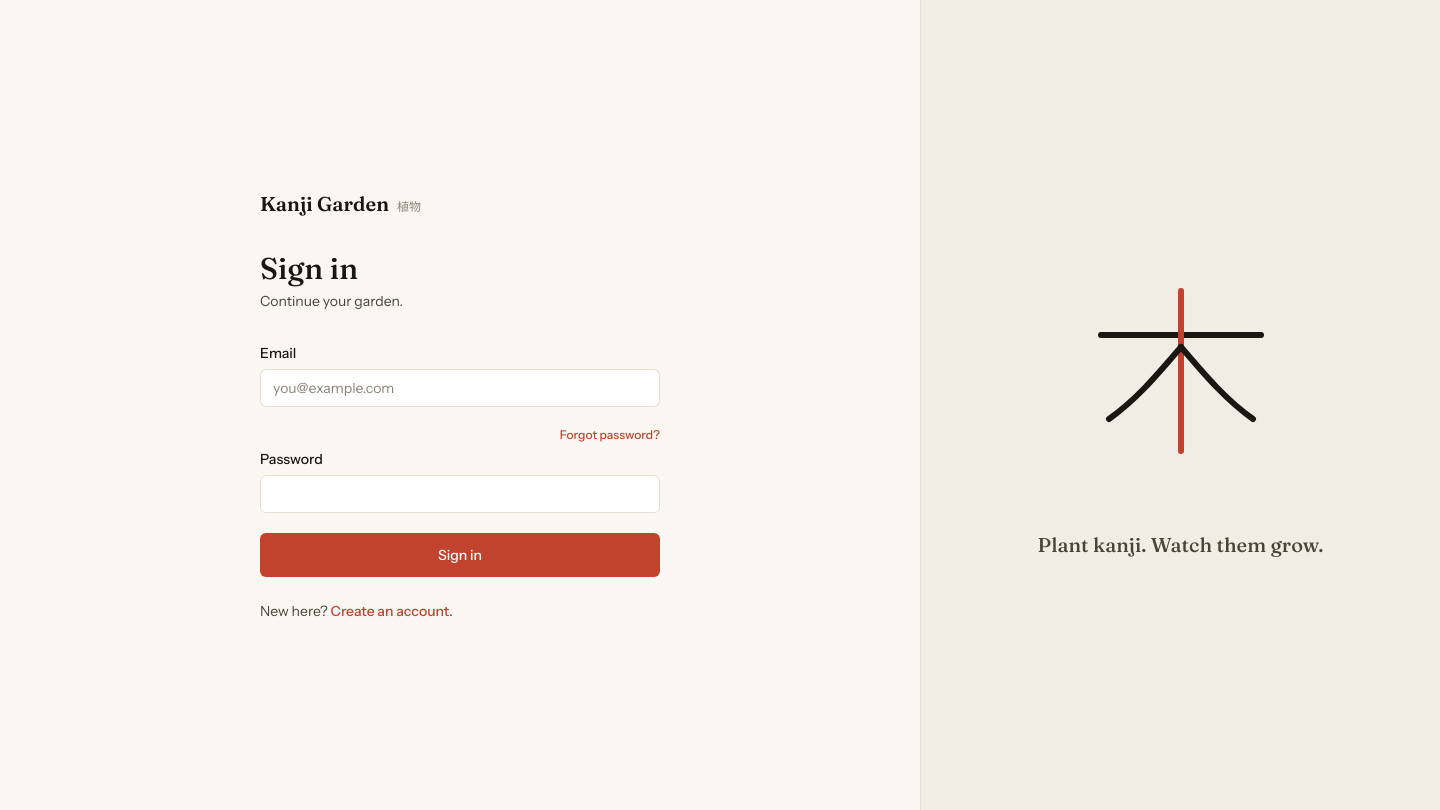
Test: Login screen (§7.11 + D2) › shows crimson-field validation on empty submit
Click the button "Sign in": (460, 555) x1=260 y1=533 x2=660 y2=577
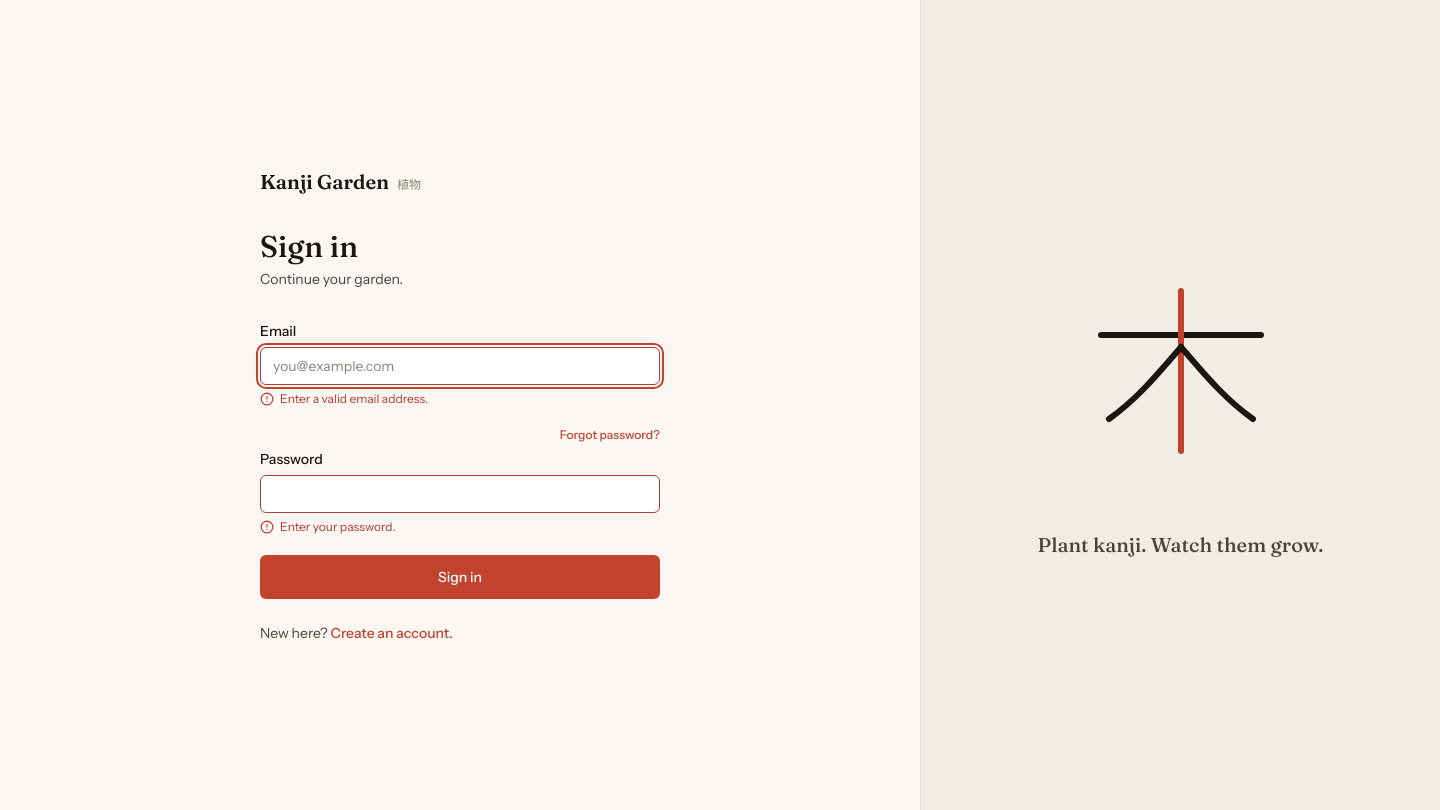
Check: the text "Enter a valid email address." is shown, box x1=260 y1=391 x2=428 y2=406
Check: the text "Enter your password." is shown, box x1=260 y1=519 x2=396 y2=534
